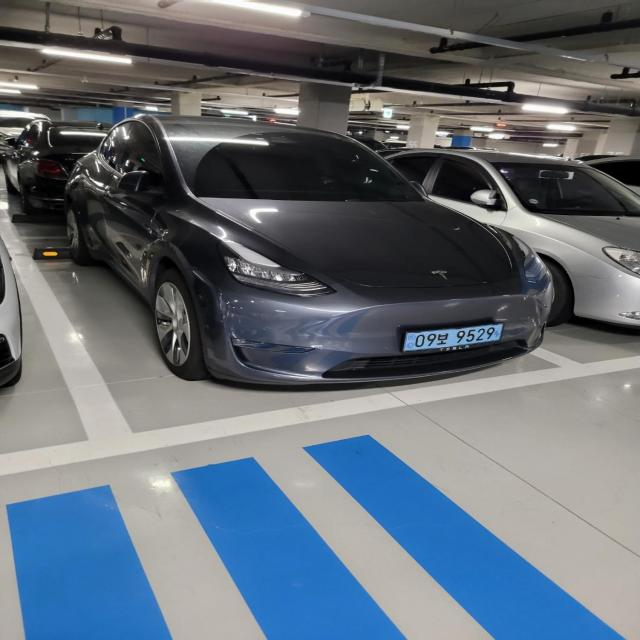EV_plate: (402, 320, 508, 354)
car: (59, 114, 554, 393)
